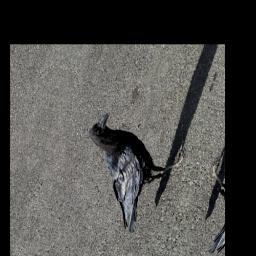Crow: (59, 109, 192, 241)
